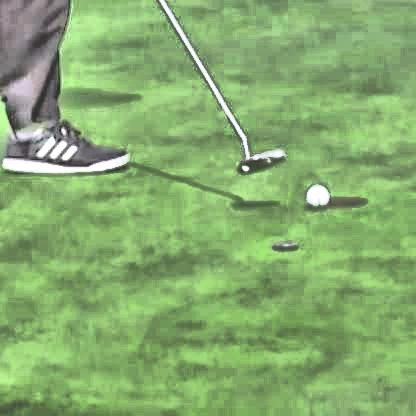golfball: (301, 186, 326, 208)
